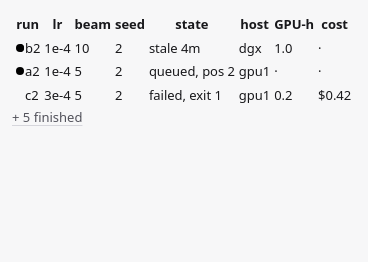
Test case: SweepRuns › the finished runs open from one row
What coordinates should you click on to do the following:
click the button "+ 5 finished"
I would click on:
 (47, 118)
Its box is [12,108,82,128].
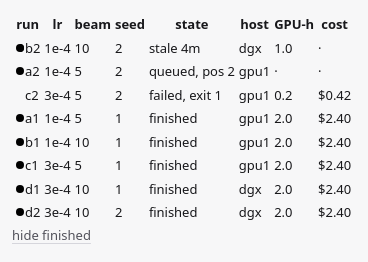
Expected: the button "hide finished" is expanded, [12,226,91,245]
